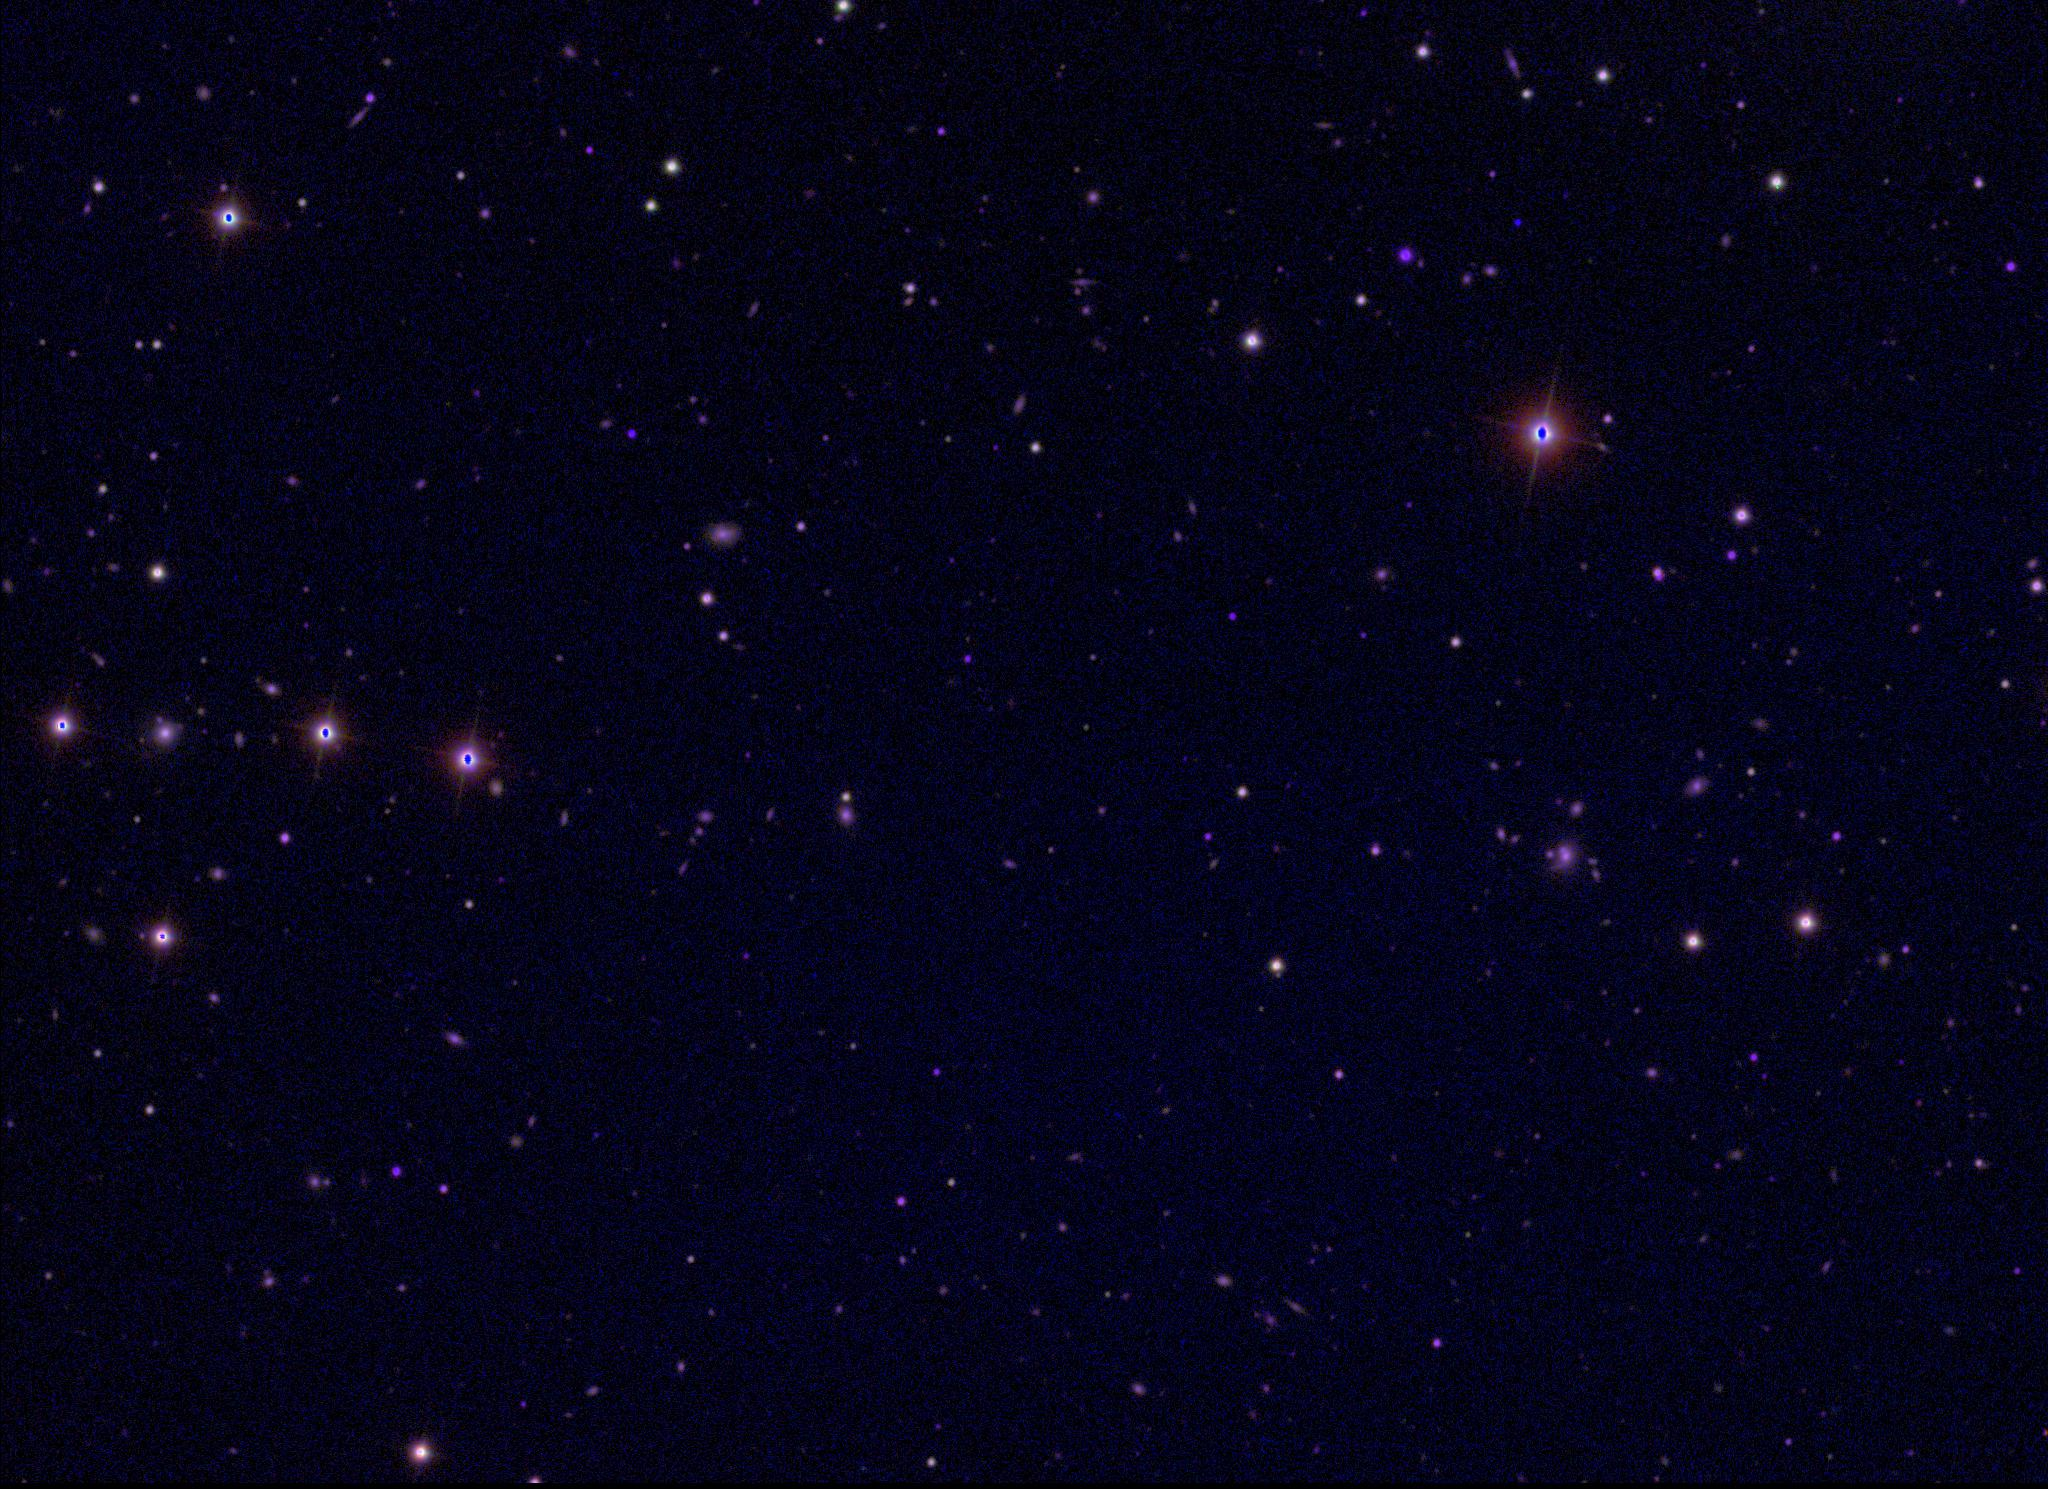L: (1512, 212, 1526, 224)
